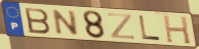8: (82, 10, 106, 40)
B: (23, 6, 53, 35)
H: (162, 14, 193, 46)
L: (137, 14, 162, 42)
N: (52, 8, 80, 36)
Z: (107, 12, 136, 41)
